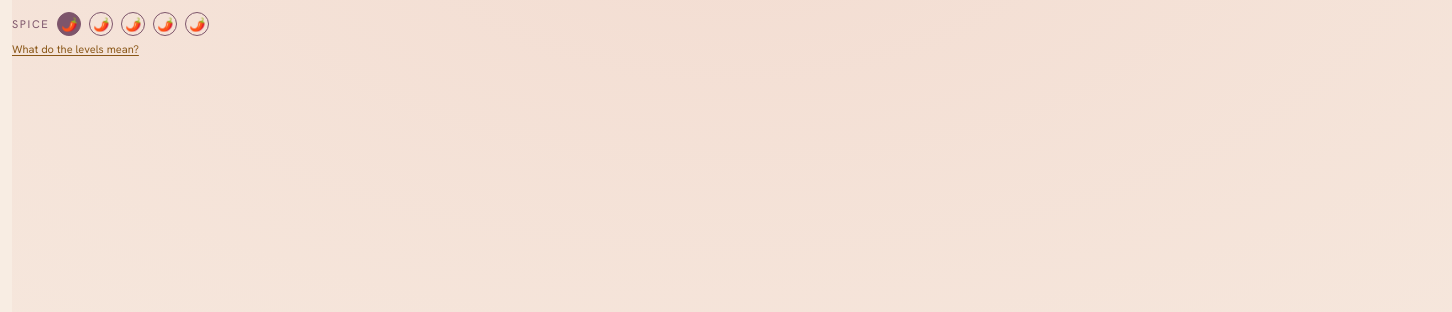
Test: LevelPicker — preview without committing › KEYBOARD FOCUS previews a level and does not change the value
The image size is (1452, 312).
Step 1. Focus the button named "Spice 4 —" → (165, 24), box [153, 12, 177, 36]
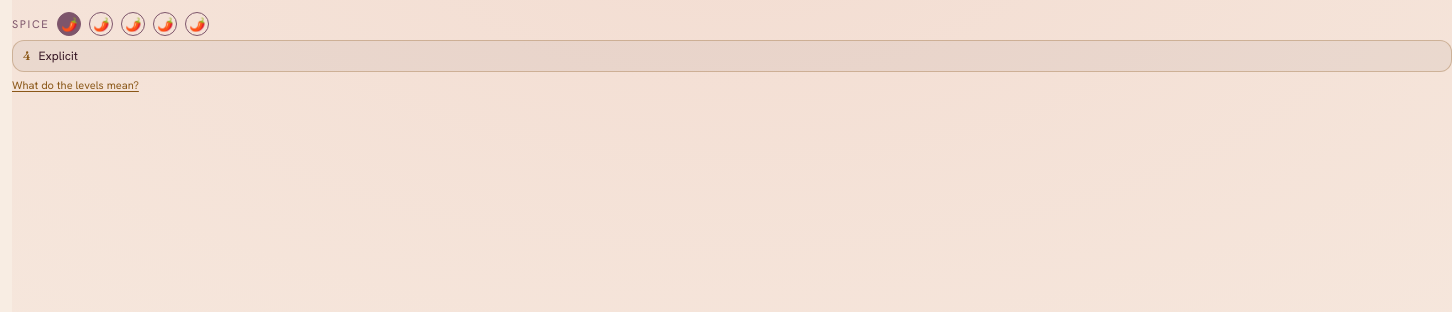
Check: the message shows "Explicit", box [39, 48, 78, 64]
